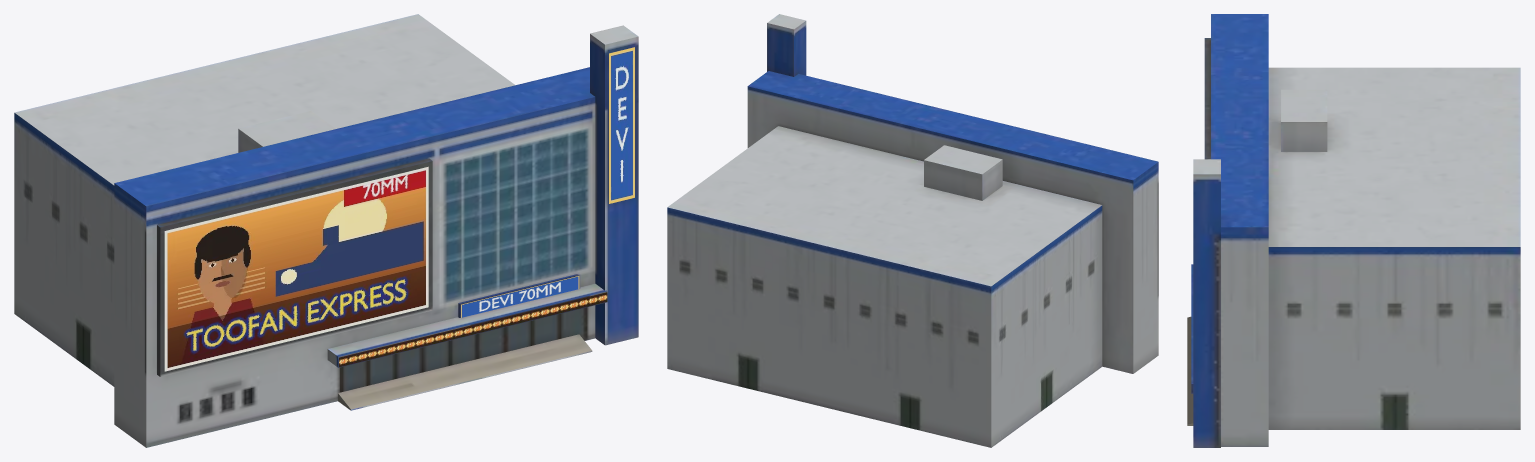
Rendered from devi_theatre.glb.
3 renders of one model, left to right at view 1: azimuth 30°, elevation 25°; view 2: azimuth 150°, elevation 25°; view 3: azimuth 270°, elevation 25°, orthographic. The views are drawn at different scales.
Parts seen in each view (by area): view 1: devi_theatre_body, devi_theatre_sheet; view 2: devi_theatre_body; view 3: devi_theatre_body.
Boxes of the visible parts, left/top/right/bottom form: devi_theatre_body: left=14, top=14, right=638, bottom=447; devi_theatre_sheet: left=164, top=47, right=634, bottom=371; devi_theatre_body: left=667, top=14, right=1158, bottom=447; devi_theatre_body: left=1187, top=14, right=1520, bottom=447.
Size of the model in its own units: 101 by 59.9 by 66.2.
2 materials, 2 textured.
